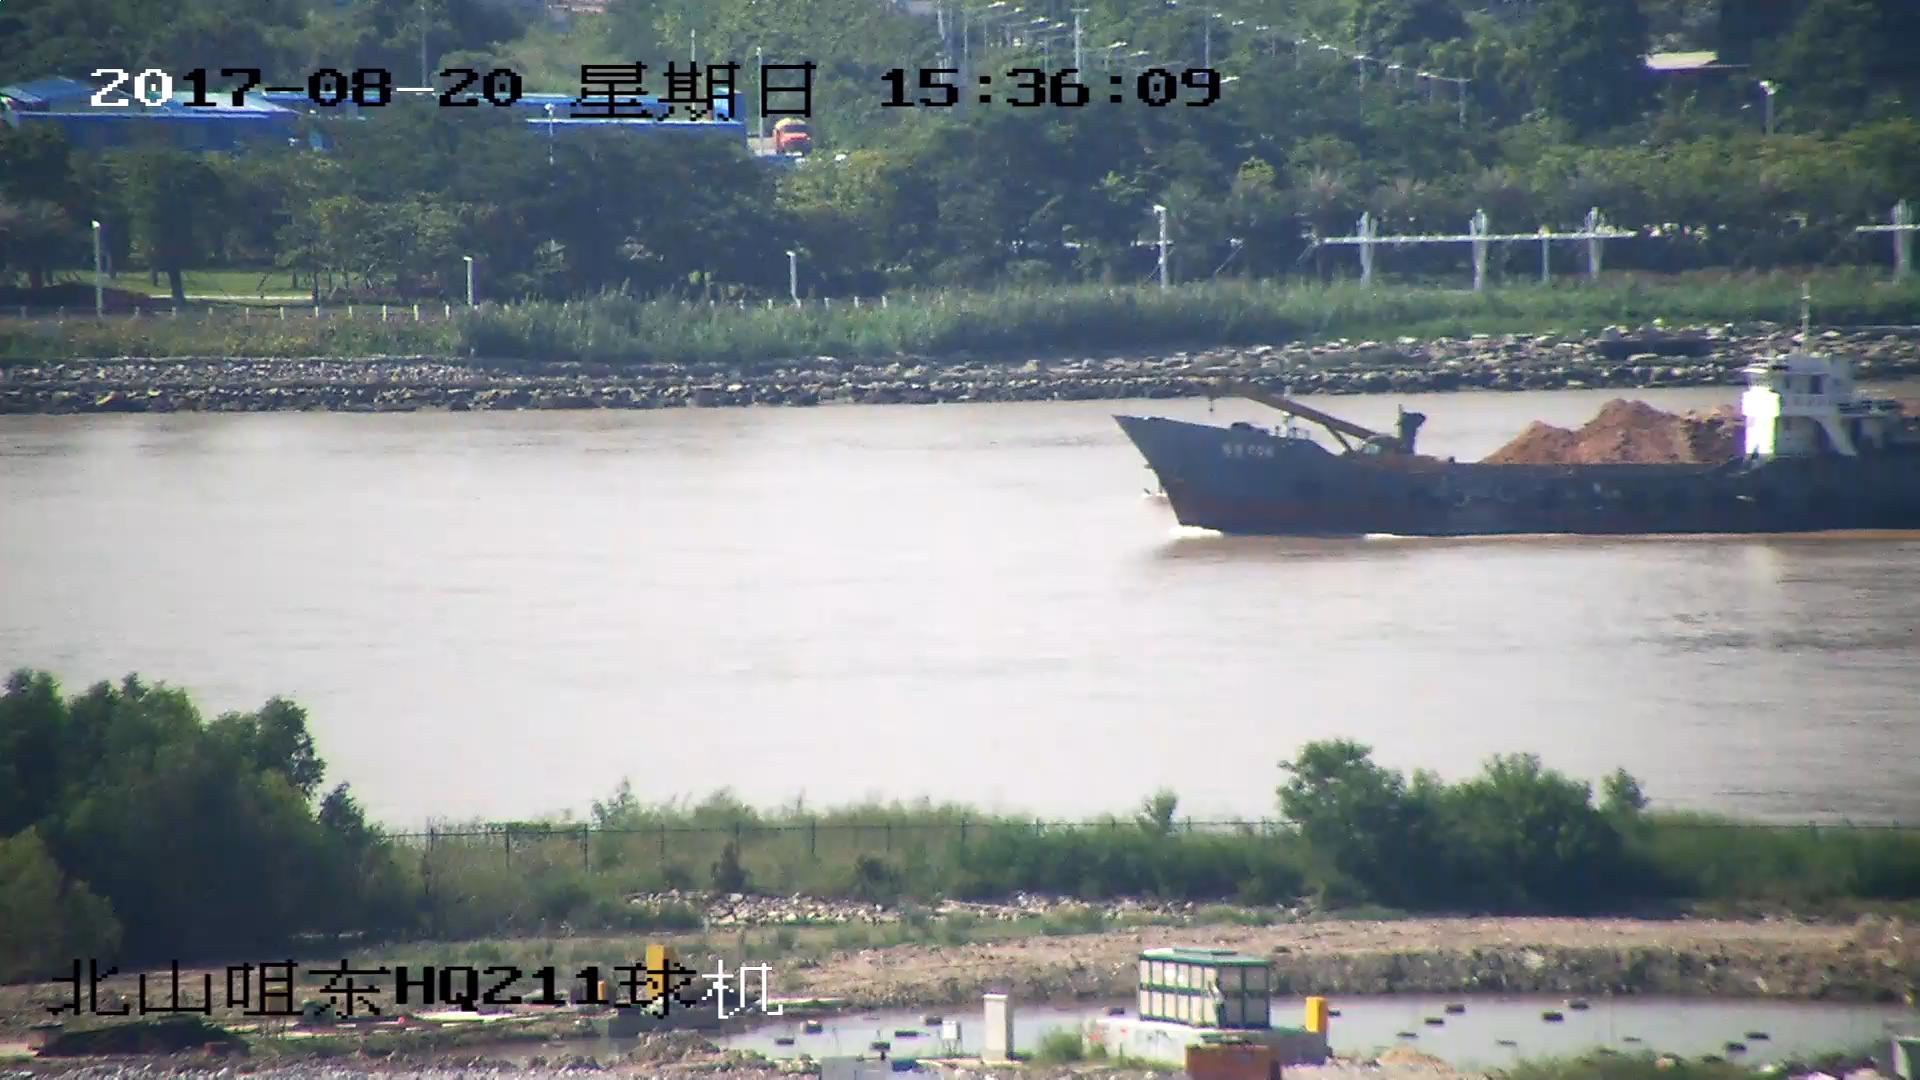general cargo ship: (1121, 290, 1920, 536)
ore carrier: (1150, 395, 1801, 499)
